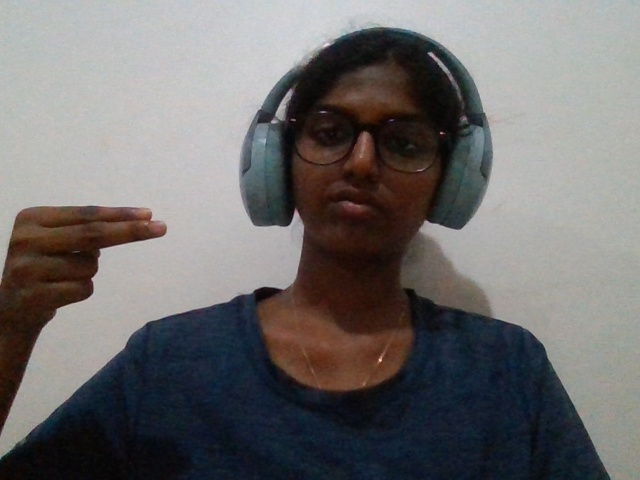H: (2, 180, 185, 371)
